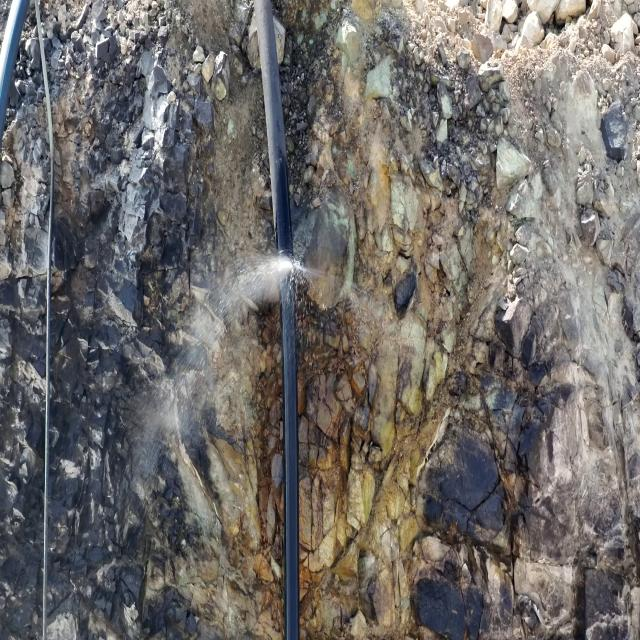leak: (125, 236, 349, 499)
